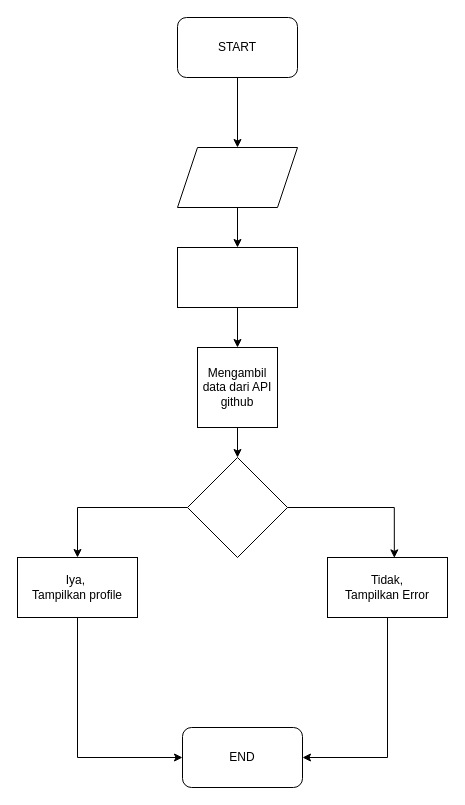
This 465x805 diagram has some shape labels left out. The shapes that lost their labels are listed below. From the top down, each one's box as (x1, y1, x2, y2) in pixels, then its label:
(176, 146, 298, 208): Input Username
(176, 246, 298, 308): User menekan tombol cari
(186, 456, 288, 558): Apakah User ditemukan ?
